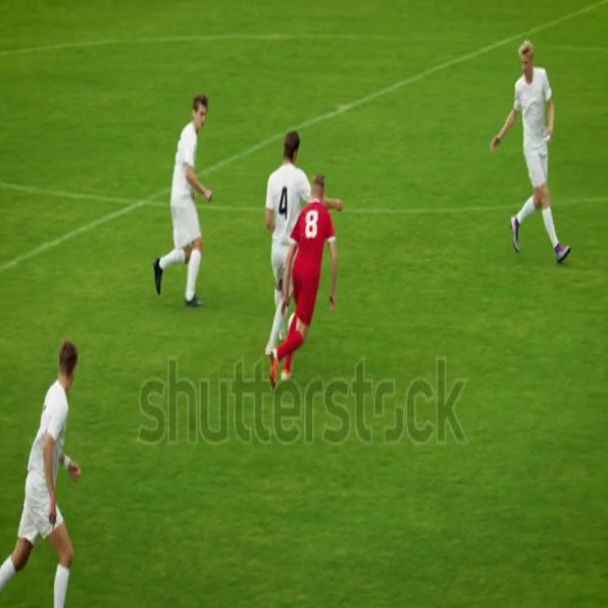ball: (270, 324, 285, 358)
